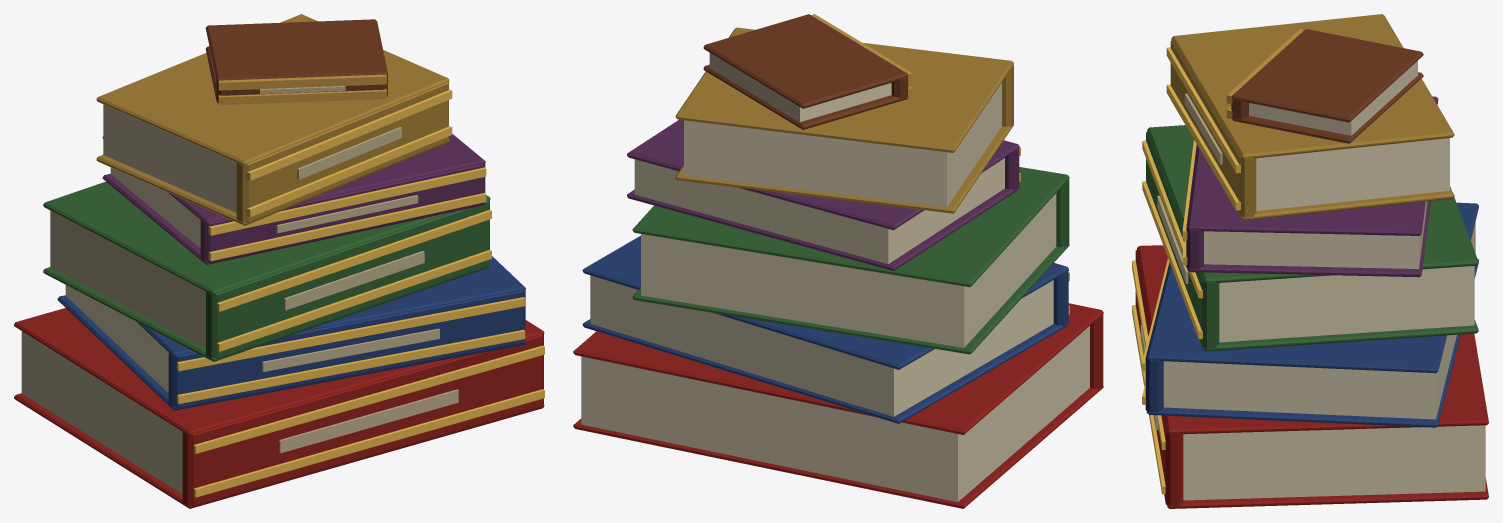
The model's file is book_stack.obj.
3 renders of one model, left to right at view 1: azimuth 30°, elevation 25°; view 2: azimuth 150°, elevation 25°; view 3: azimuth 270°, elevation 25°, orthographic. The views are drawn at different scales.
Visible parts, largest first — view 1: box.002, box.029, box.016, box.009, box.015, box.003, box.001, box.036, box.017, box.030, box.031, box.023 (+27 smaller); view 2: box.003, box.017, box.010, box.031, box.029, box.024, box.015, box.001, box.036, box.008, box.022, box (+11 smaller); view 3: box.003, box.017, box.029, box.010, box.031, box.036, box.008, box.024, box.001, box.022, box.015, box.016 (+22 smaller).
Part boxes in pixels (x1,y1,x2,y2): box.002: [182, 328, 543, 506]; box.029: [96, 14, 449, 165]; box.016: [206, 200, 489, 359]; box.009: [168, 285, 525, 408]; box.015: [43, 181, 490, 294]; box.003: [21, 331, 182, 493]; box.001: [14, 308, 544, 435]; box.036: [205, 19, 387, 82]; box.017: [50, 210, 205, 347]; box.030: [236, 82, 448, 222]; box.031: [103, 104, 236, 212]; box.023: [200, 156, 485, 262]; box.003: [581, 326, 1089, 501]; box.017: [641, 193, 1056, 347]; box.010: [590, 275, 1053, 416]; box.031: [684, 82, 1001, 207]; box.029: [675, 27, 1013, 152]; box.024: [634, 158, 1004, 263]; box.015: [632, 167, 1069, 287]; box.001: [573, 303, 1103, 434]; box.036: [703, 14, 908, 108]; box.008: [582, 235, 1068, 369]; box.022: [627, 120, 1019, 230]; box: [573, 386, 1103, 508]; box.003: [1183, 425, 1485, 500]; box.017: [1219, 266, 1474, 342]; box.029: [1171, 14, 1454, 158]; box.010: [1163, 222, 1475, 419]; box.031: [1256, 138, 1449, 210]; box.036: [1232, 29, 1423, 122]; box.008: [1146, 202, 1478, 373]; box.024: [1204, 201, 1427, 268]; box.001: [1137, 245, 1488, 434]; box.022: [1187, 96, 1438, 235]; box.015: [1147, 125, 1478, 282]; box.016: [1146, 127, 1219, 348].
Size of the model in its own units: 0.3144 by 0.265 by 0.2436.
